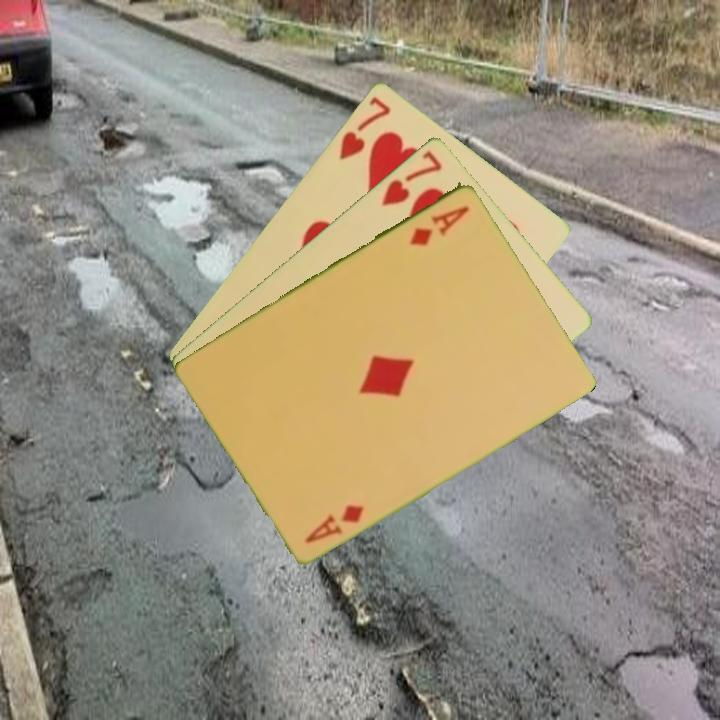7h: (378, 146, 445, 209), (335, 92, 394, 163)
Ad: (405, 201, 473, 249), (301, 500, 368, 546)
